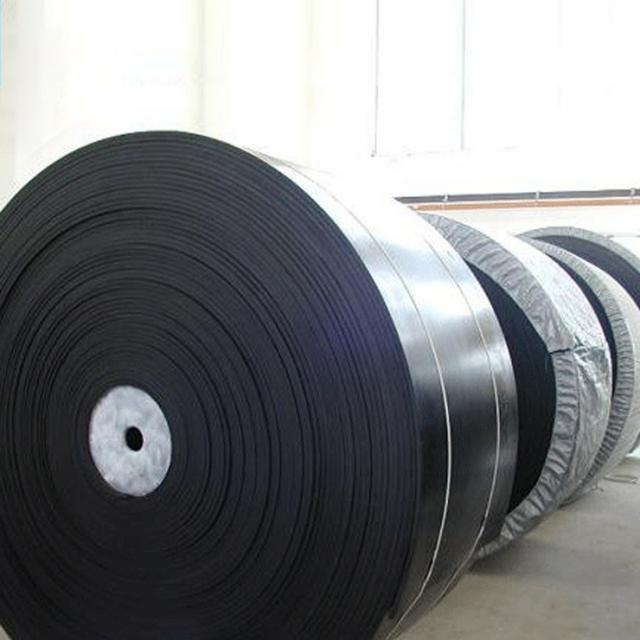convoyeur: (2, 126, 520, 640)
